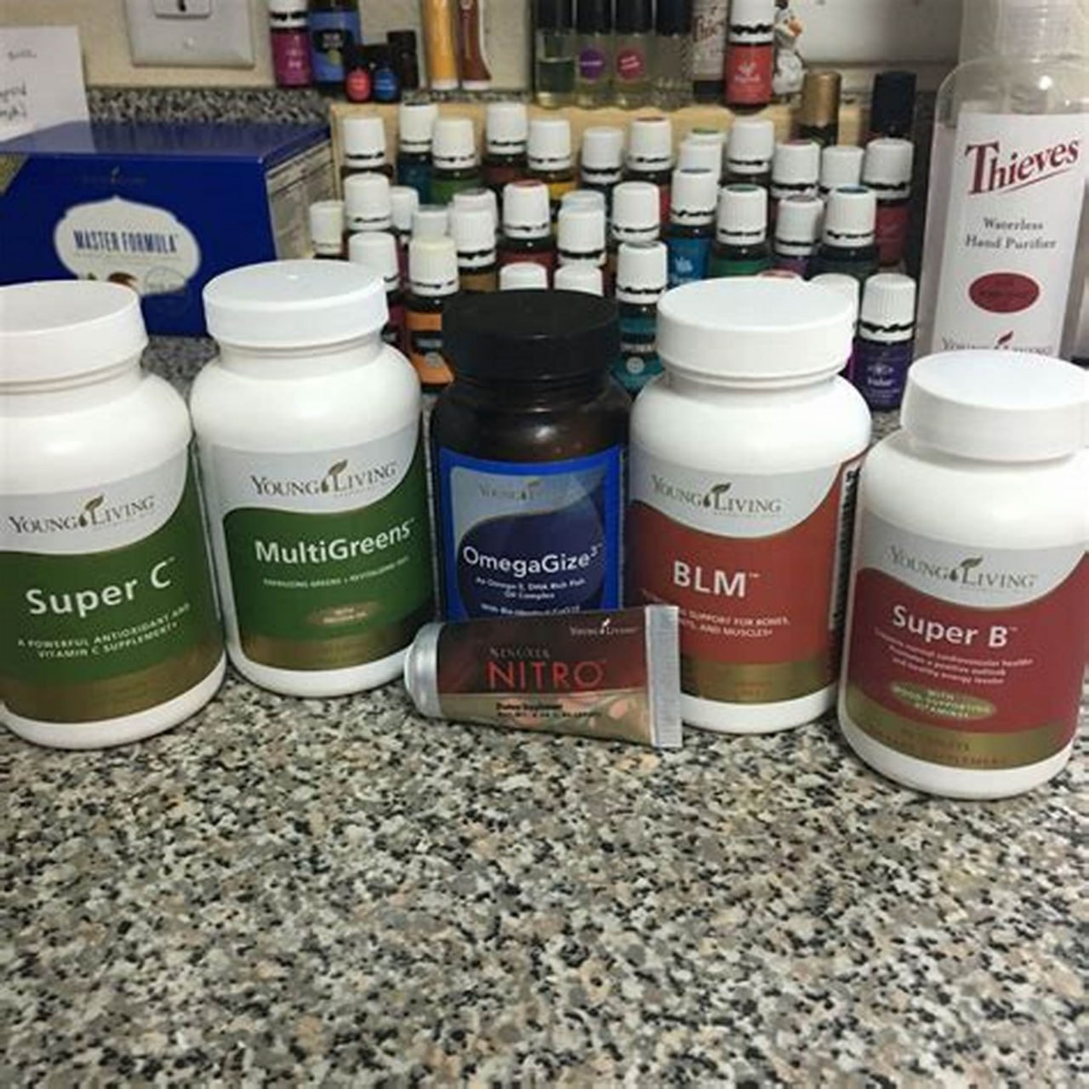Medicine: (842, 337, 1089, 822), (187, 258, 428, 726), (3, 272, 227, 757), (635, 284, 868, 746), (428, 289, 644, 613), (394, 598, 712, 771), (720, 0, 786, 112)
